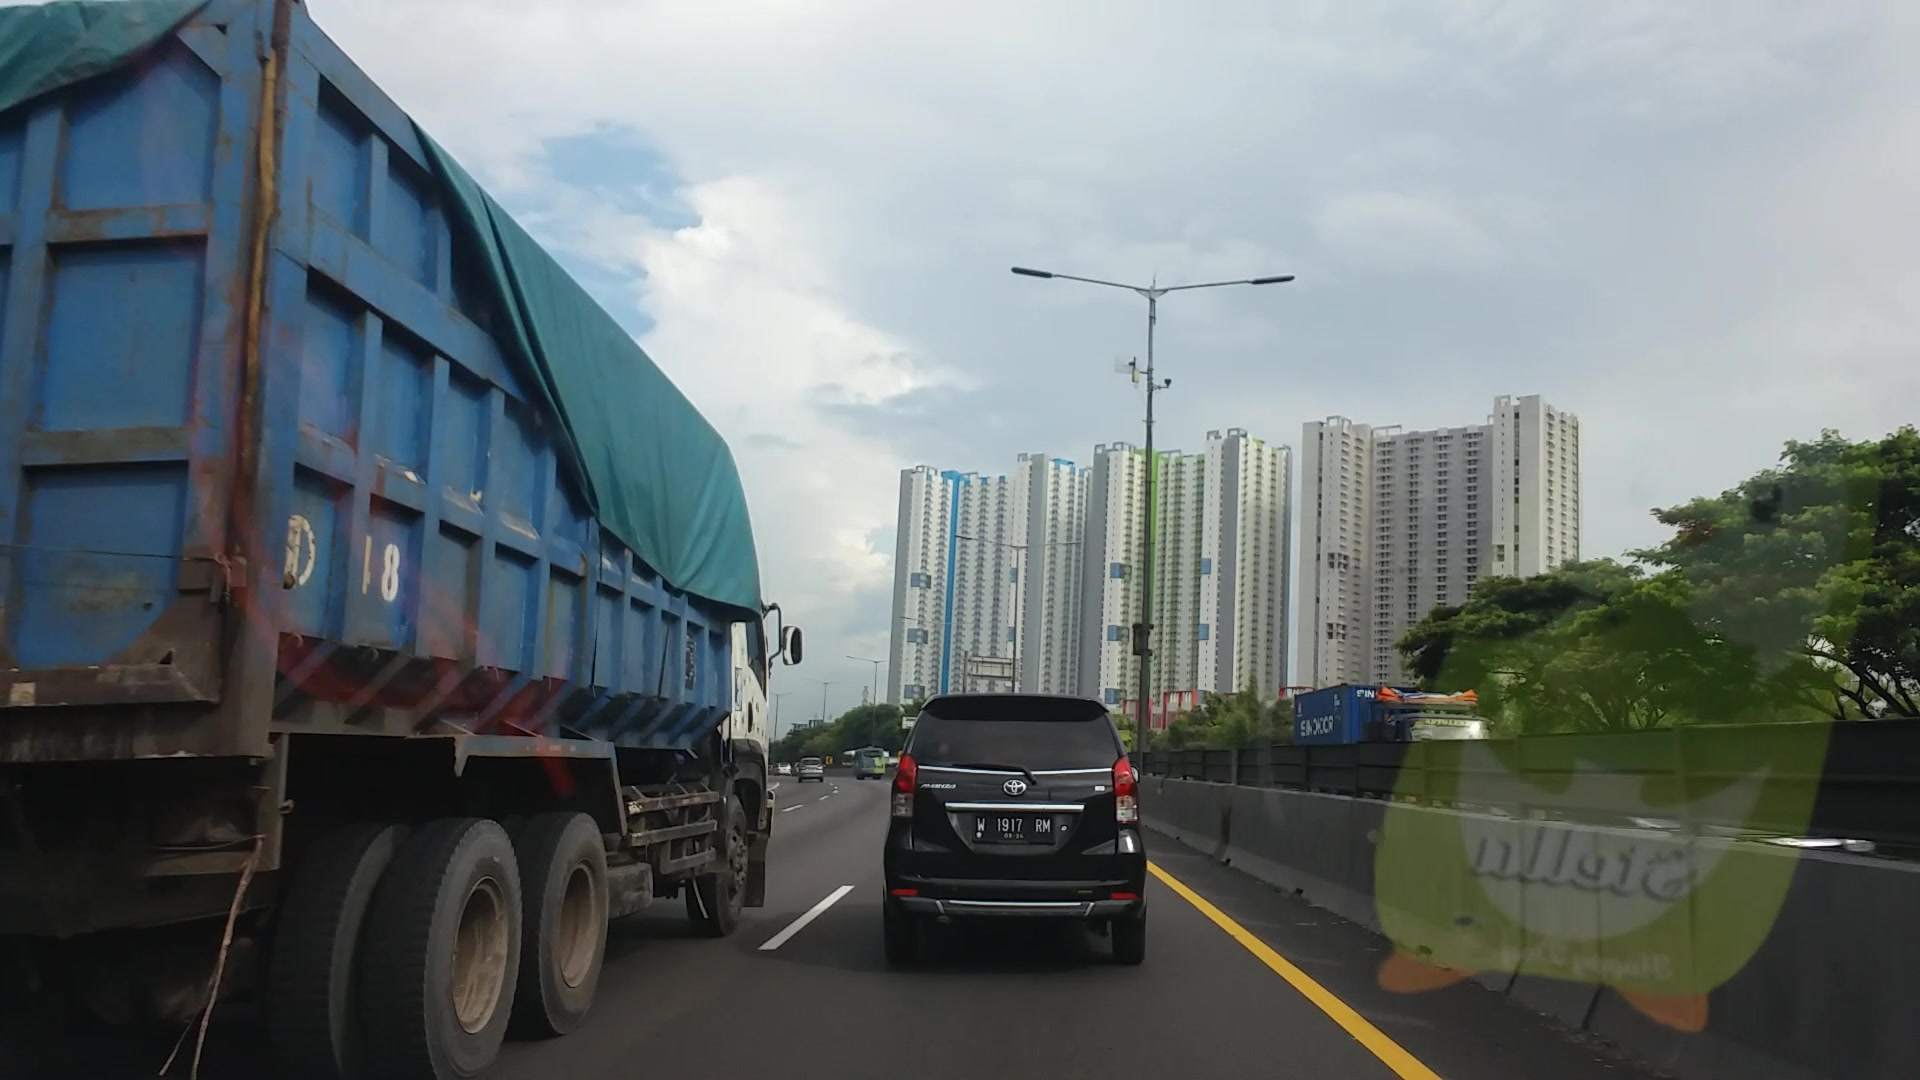plate_positive: (973, 814, 1054, 841)
